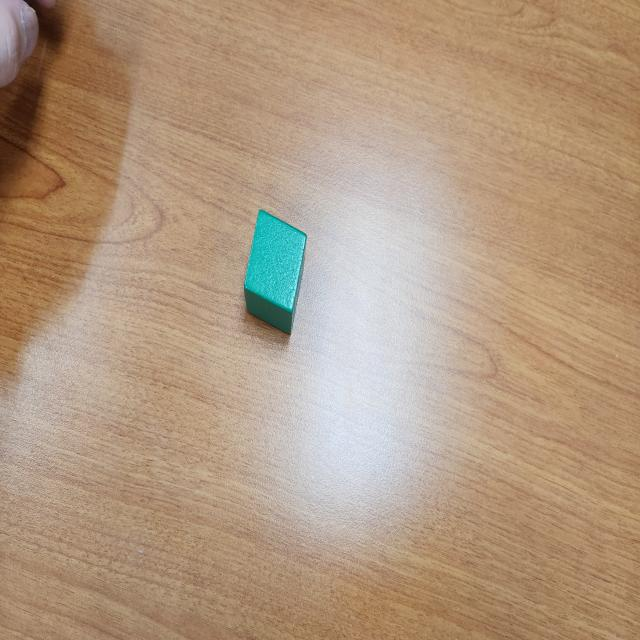green: (244, 208, 308, 336)
